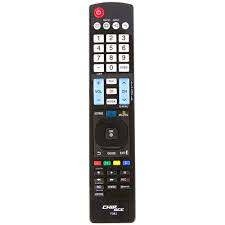remote control: (88, 3, 138, 222)
